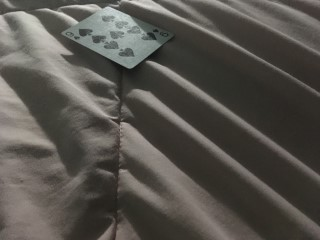NineOfSpades: (61, 6, 173, 70)
